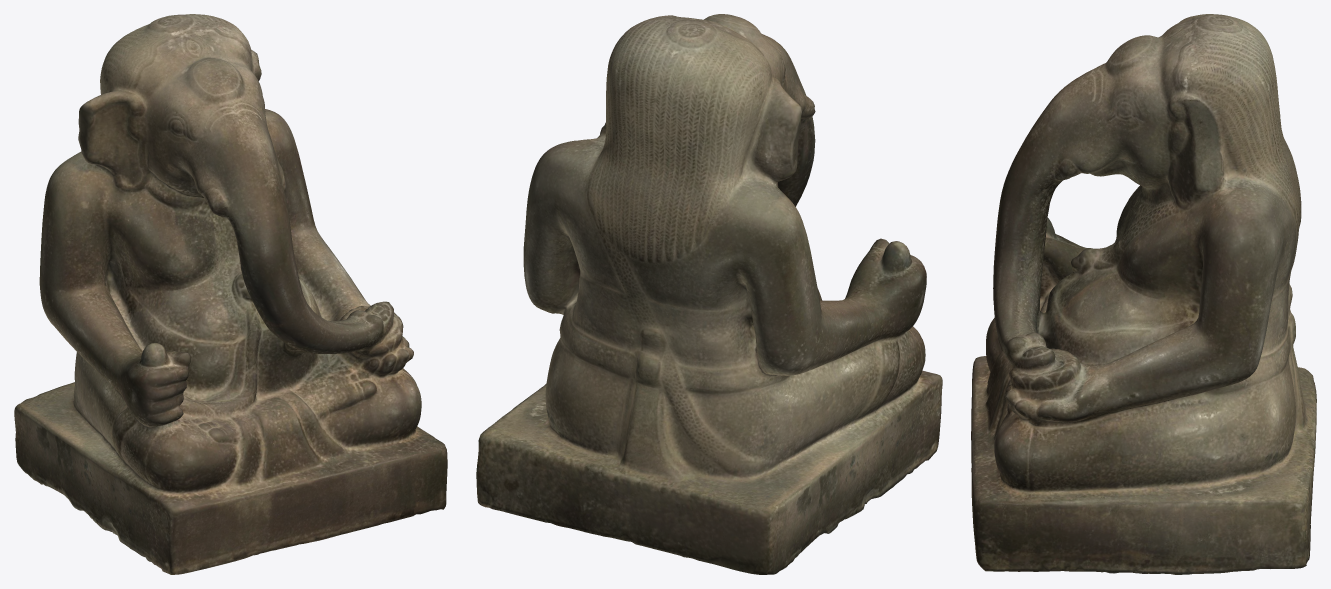
3 renders of one model, left to right at view 1: azimuth 30°, elevation 25°; view 2: azimuth 150°, elevation 25°; view 3: azimuth 270°, elevation 25°, orthographic. The views are drawn at different scales.
Size of the model in its own units: 0.41 by 0.6131 by 0.4064.
1 material, 1 textured.
